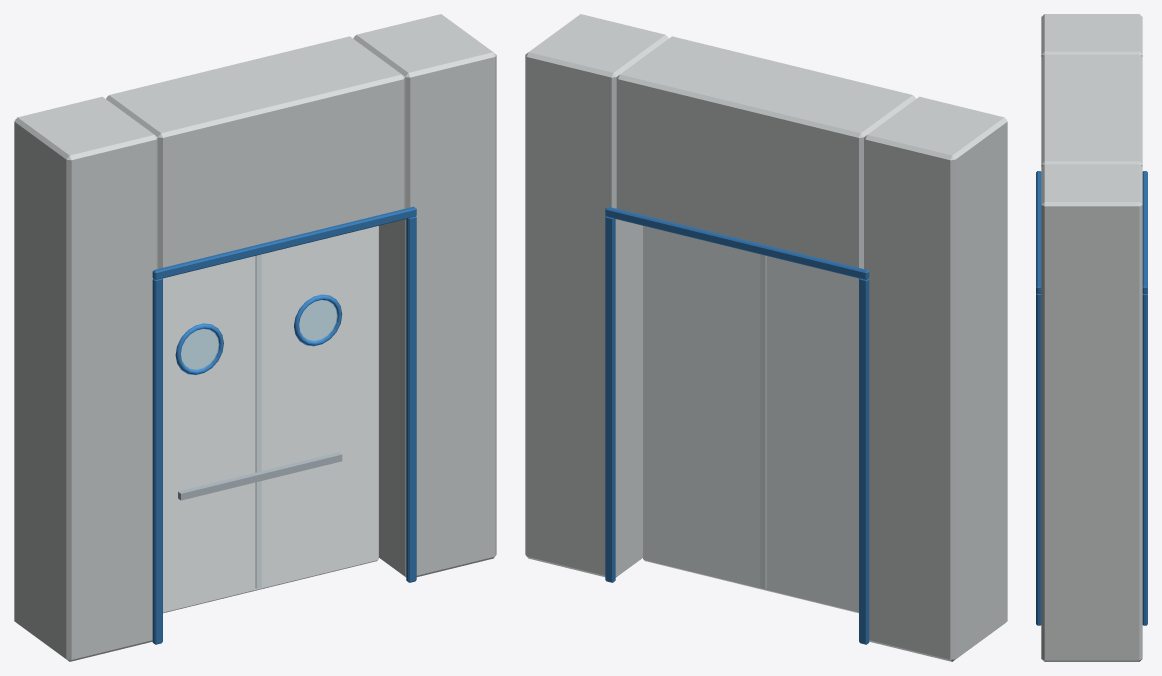
Rendered from door.fbx.
3 renders of one model, left to right at view 1: azimuth 30°, elevation 25°; view 2: azimuth 150°, elevation 25°; view 3: azimuth 270°, elevation 25°, orthographic. The views are drawn at different scales.
Visible parts, largest first — view 1: door, Door; view 2: door, Door; view 3: door.
Part boxes in pixels (x1,y1,x2,y2): door: (14, 14, 496, 661); Door: (163, 226, 378, 613); door: (525, 14, 1007, 661); Door: (643, 226, 858, 613); door: (1036, 14, 1147, 661).
Bounding box in the file's own units: 4 × 4.5 × 0.99.
